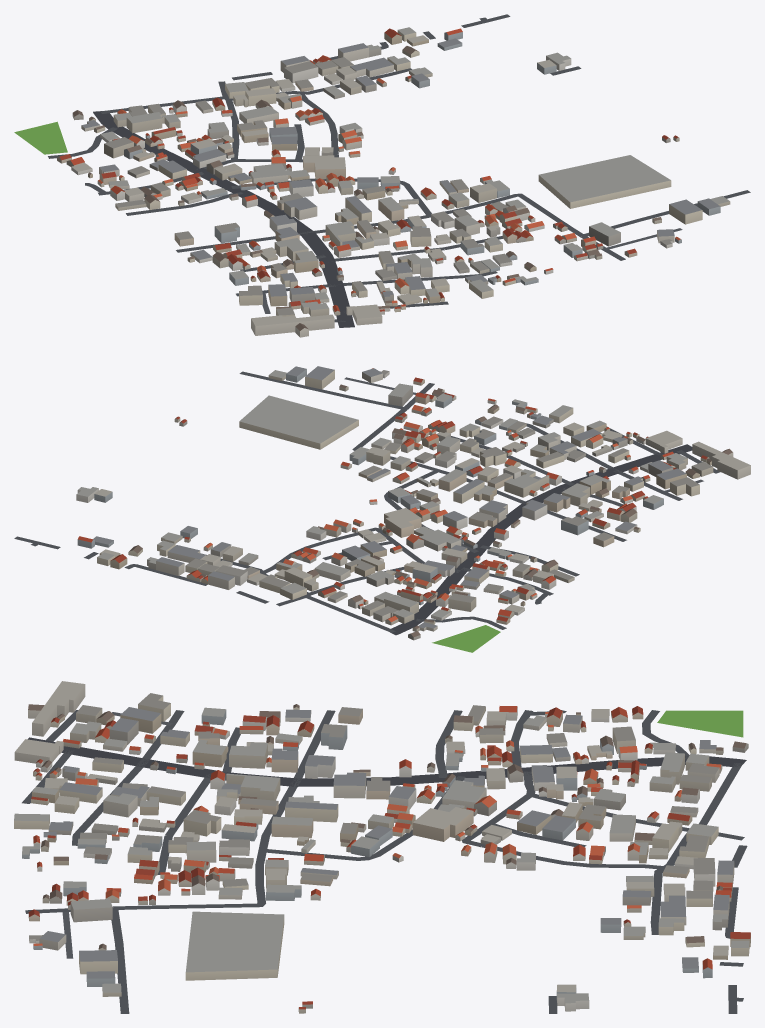
The picture shows the model from 3 angles, top to bottom: view 1: azimuth 30°, elevation 25°; view 2: azimuth 150°, elevation 25°; view 3: azimuth 270°, elevation 25°; orthographic projection. The views are drawn at different scales.
Parts seen in each view (by area): view 1: buildings_roofs, buildings_walls, roads, landuse; view 2: buildings_roofs, buildings_walls, roads, landuse; view 3: buildings_roofs, buildings_walls, roads, landuse.
Boxes of the visible parts, x1,y1,x2,y2 form: buildings_roofs: (59, 27, 729, 330); buildings_walls: (57, 30, 730, 337); roads: (48, 14, 750, 327); landuse: (14, 121, 67, 154); buildings_roofs: (77, 366, 750, 636); buildings_walls: (76, 369, 750, 640); roads: (14, 371, 720, 635); landuse: (432, 625, 500, 652); buildings_roofs: (14, 681, 750, 1009); buildings_walls: (14, 684, 750, 1013); roads: (22, 710, 747, 1013); landuse: (657, 710, 743, 737).
Size of the model in its own units: 528 by 9.79 by 513.
